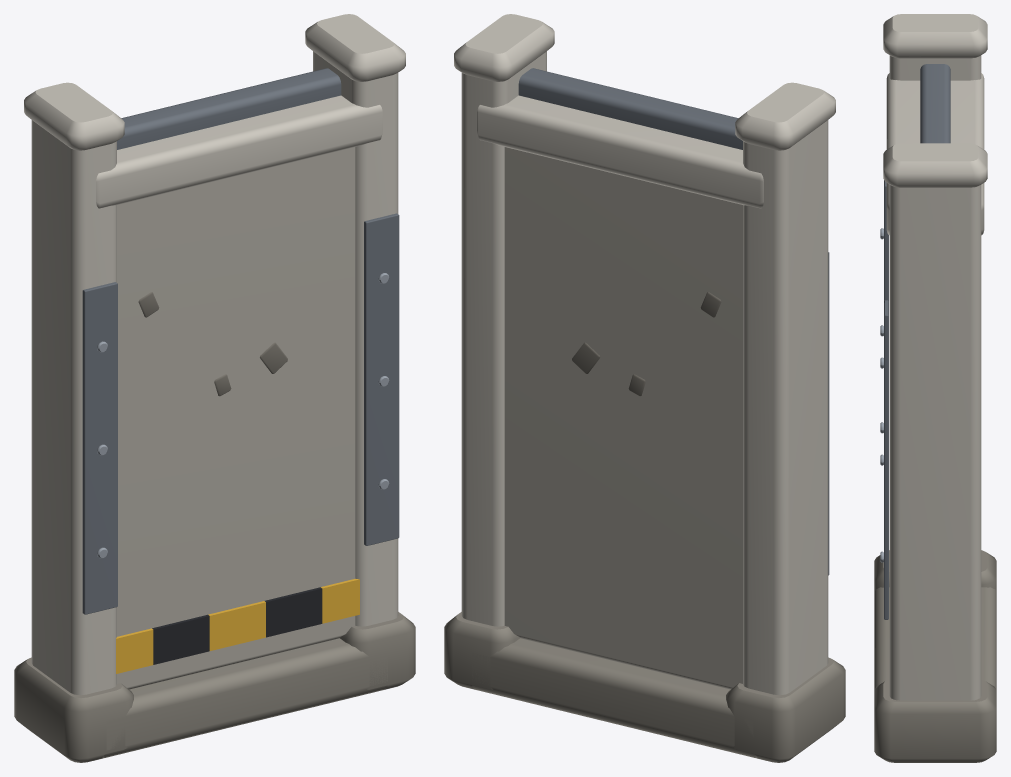
Rendered from barriere_beton_arme_abime1.glb.
3 renders of one model, left to right at view 1: azimuth 30°, elevation 25°; view 2: azimuth 150°, elevation 25°; view 3: azimuth 270°, elevation 25°, orthographic. The views are drawn at different scales.
Parts seen in each view (by area): view 1: barriere_beton_cl.012, poteau_g_beton_cl_clair.012, poteau_d_beton_cl_clair.012, barriere_beton_cl_sombre.012, barriere_beton_cl_clair.012, poteau_g_acier_cl.006, poteau_d_acier_cl.006, poteau_g_beton_cl_sombre.012, barriere_acier_cl.006, barriere_jaune_cl.006, barriere_noir_cl.008, poteau_d_beton_cl_sombre.012 (+1 smaller); view 2: barriere_beton_cl.012, poteau_g_beton_cl_clair.012, poteau_d_beton_cl_clair.012, barriere_beton_cl_sombre.012, barriere_beton_cl_clair.012, poteau_g_beton_cl_sombre.012, barriere_acier_cl.006, poteau_d_beton_cl_sombre.012, barriere_beton_cl_casse.008; view 3: poteau_d_beton_cl_clair.012, poteau_d_beton_cl_sombre.012, poteau_g_beton_cl_clair.012, barriere_beton_cl_clair.012, barriere_beton_cl_sombre.012, barriere_acier_cl.006, poteau_d_acier_cl.006, poteau_g_beton_cl_sombre.012, poteau_g_acier_cl.006.
Part boxes in pixels (left/top/right/bottom): barriere_beton_cl.012: left=117, top=147, right=355, bottom=689; poteau_g_beton_cl_clair.012: left=24, top=82, right=124, bottom=695; poteau_d_beton_cl_clair.012: left=305, top=14, right=405, bottom=626; barriere_beton_cl_sombre.012: left=102, top=638, right=387, bottom=758; barriere_beton_cl_clair.012: left=96, top=95, right=382, bottom=208; poteau_g_acier_cl.006: left=82, top=282, right=117, bottom=614; poteau_d_acier_cl.006: left=364, top=213, right=399, bottom=545; poteau_g_beton_cl_sombre.012: left=14, top=657, right=133, bottom=762; barriere_acier_cl.006: left=117, top=68, right=341, bottom=149; barriere_jaune_cl.006: left=116, top=578, right=359, bottom=673; barriere_noir_cl.008: left=152, top=587, right=322, bottom=664; poteau_d_beton_cl_sombre.012: left=340, top=612, right=415, bottom=689; barriere_beton_cl.012: left=504, top=147, right=742, bottom=689; poteau_g_beton_cl_clair.012: left=735, top=82, right=835, bottom=695; poteau_d_beton_cl_clair.012: left=454, top=14, right=554, bottom=626; barriere_beton_cl_sombre.012: left=472, top=638, right=757, bottom=758; barriere_beton_cl_clair.012: left=477, top=95, right=763, bottom=208; poteau_g_beton_cl_sombre.012: left=726, top=657, right=845, bottom=762; barriere_acier_cl.006: left=518, top=68, right=742, bottom=149; poteau_d_beton_cl_sombre.012: left=444, top=612, right=519, bottom=689; barriere_beton_cl_casse.008: left=572, top=292, right=721, bottom=396; poteau_d_beton_cl_clair.012: left=883, top=143, right=987, bottom=700; poteau_d_beton_cl_sombre.012: left=874, top=679, right=996, bottom=762; poteau_g_beton_cl_clair.012: left=883, top=14, right=987, bottom=80; barriere_beton_cl_clair.012: left=886, top=73, right=984, bottom=235; barriere_beton_cl_sombre.012: left=874, top=587, right=996, bottom=689; barriere_acier_cl.006: left=920, top=64, right=950, bottom=143; poteau_d_acier_cl.006: left=884, top=300, right=888, bottom=619; poteau_g_beton_cl_sombre.012: left=874, top=550, right=996, bottom=590; poteau_g_acier_cl.006: left=884, top=180, right=888, bottom=300.
Bounding box in the file's own units: 0.62 × 1.08 × 0.2.
